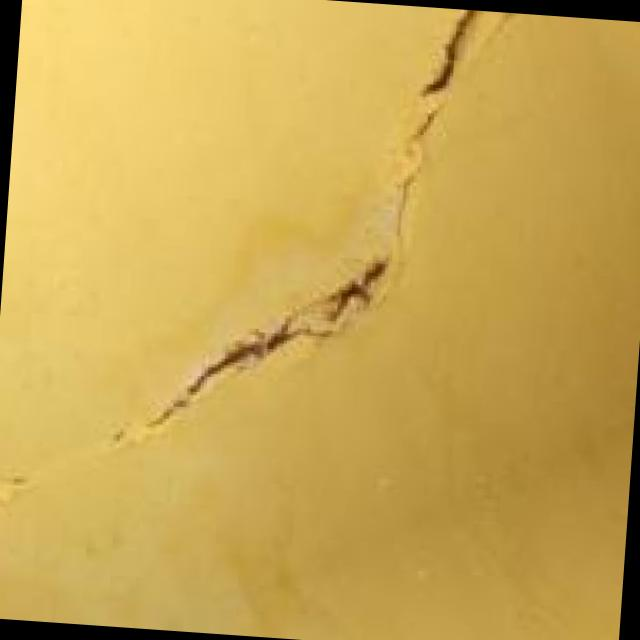crack: (87, 0, 524, 470)
